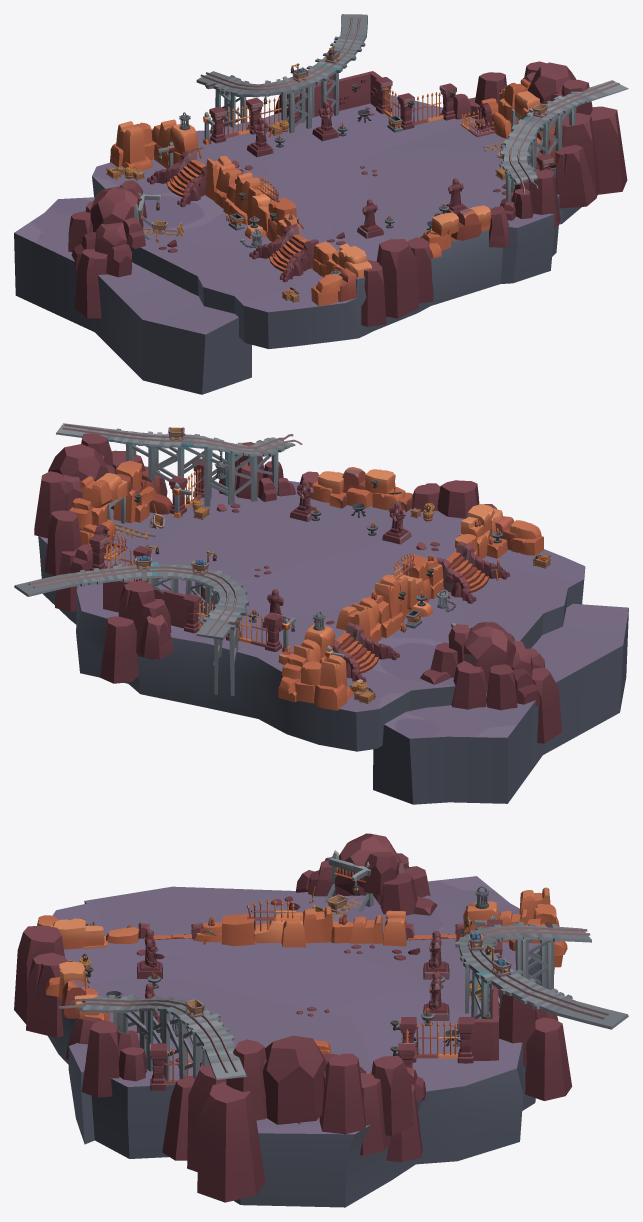
Rendered from Cave inside for Level 3.fbx.
3 views of the same model, one above another, from view 1: azimuth 30°, elevation 25°; view 2: azimuth 150°, elevation 25°; view 3: azimuth 270°, elevation 25° (orthographic). The views are drawn at different scales.
Visible parts, largest first — view 1: Plane.006, Cube.599, Cube.635, Circle.338, Circle.337, Circle.275, Circle.345, Cube.617, Circle.342, Cube.596, Circle.256, Circle.340 (+28 smaller); view 2: Plane.006, Cube.599, Cube.635, Circle.334, Circle.342, Cube.658, Circle.345, Circle.279, Cube.596, Circle.265, Circle.270, Circle.347 (+32 smaller); view 3: Plane.006, Circle.337, Circle.265, Cube.599, Cube.635, Circle.334, Circle.270, Circle.001, Circle.279, Circle.282, Circle.338, Circle.261 (+36 smaller).
Part boxes in pixels (x1=…): Plane.006: x1=14, y1=95, x2=581, y2=394; Cube.599: x1=196, y1=14, x2=367, y2=97; Cube.635: x1=499, y1=80, x2=628, y2=184; Circle.338: x1=376, y1=239, x2=419, y2=318; Circle.337: x1=590, y1=106, x2=627, y2=194; Circle.275: x1=555, y1=145, x2=596, y2=208; Circle.345: x1=74, y1=249, x2=107, y2=318; Cube.617: x1=296, y1=71, x2=381, y2=119; Circle.342: x1=90, y1=186, x2=143, y2=232; Cube.596: x1=249, y1=224, x2=318, y2=282; Circle.256: x1=553, y1=113, x2=599, y2=196; Circle.340: x1=361, y1=260, x2=386, y2=326; Plane.006: x1=38, y1=481, x2=628, y2=804; Cube.599: x1=14, y1=562, x2=249, y2=640; Cube.635: x1=56, y1=423, x2=295, y2=456; Circle.334: x1=100, y1=616, x2=139, y2=683; Circle.342: x1=458, y1=622, x2=516, y2=686; Cube.658: x1=132, y1=445, x2=228, y2=506; Circle.345: x1=531, y1=667, x2=562, y2=743; Circle.279: x1=46, y1=510, x2=81, y2=575; Cube.596: x1=436, y1=541, x2=509, y2=603; Circle.265: x1=48, y1=444, x2=108, y2=481; Circle.270: x1=34, y1=471, x2=67, y2=538; Circle.347: x1=451, y1=661, x2=486, y2=709; Plane.006: x1=48, y1=876, x2=554, y2=1207; Circle.337: x1=197, y1=1081, x2=265, y2=1202; Circle.265: x1=262, y1=1035, x2=326, y2=1124; Cube.599: x1=455, y1=922, x2=628, y2=1029; Cube.635: x1=78, y1=994, x2=246, y2=1079; Circle.334: x1=525, y1=1017, x2=572, y2=1100; Circle.270: x1=319, y1=1053, x2=365, y2=1134; Circle.001: x1=26, y1=952, x2=67, y2=1037; Circle.279: x1=371, y1=1055, x2=413, y2=1136; Circle.282: x1=81, y1=1020, x2=119, y2=1097; Circle.338: x1=14, y1=925, x2=64, y2=1024; Circle.261: x1=226, y1=1039, x2=267, y2=1120.
Size of the model in its own units: 19.15 by 6.19 by 15.34.
